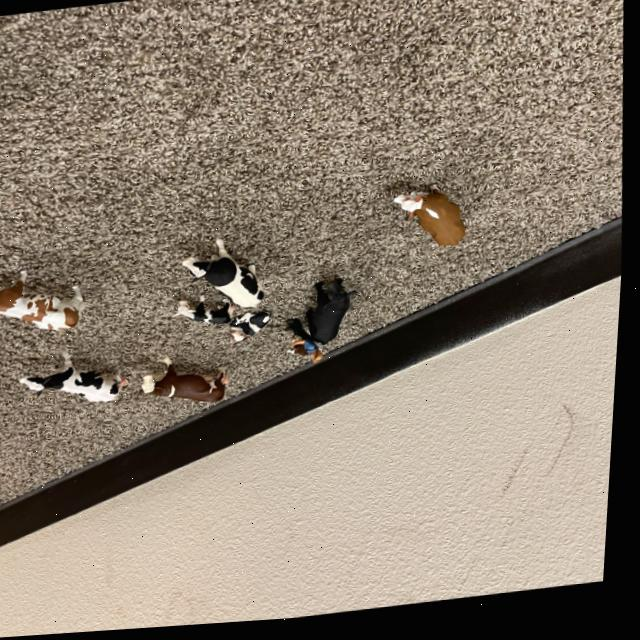cow: (23, 341, 133, 423), (183, 231, 280, 322), (394, 177, 479, 260), (0, 266, 93, 339), (145, 357, 235, 408), (301, 277, 361, 353), (179, 291, 240, 334), (230, 307, 280, 348), (291, 340, 318, 366)
person: (282, 319, 332, 373)
